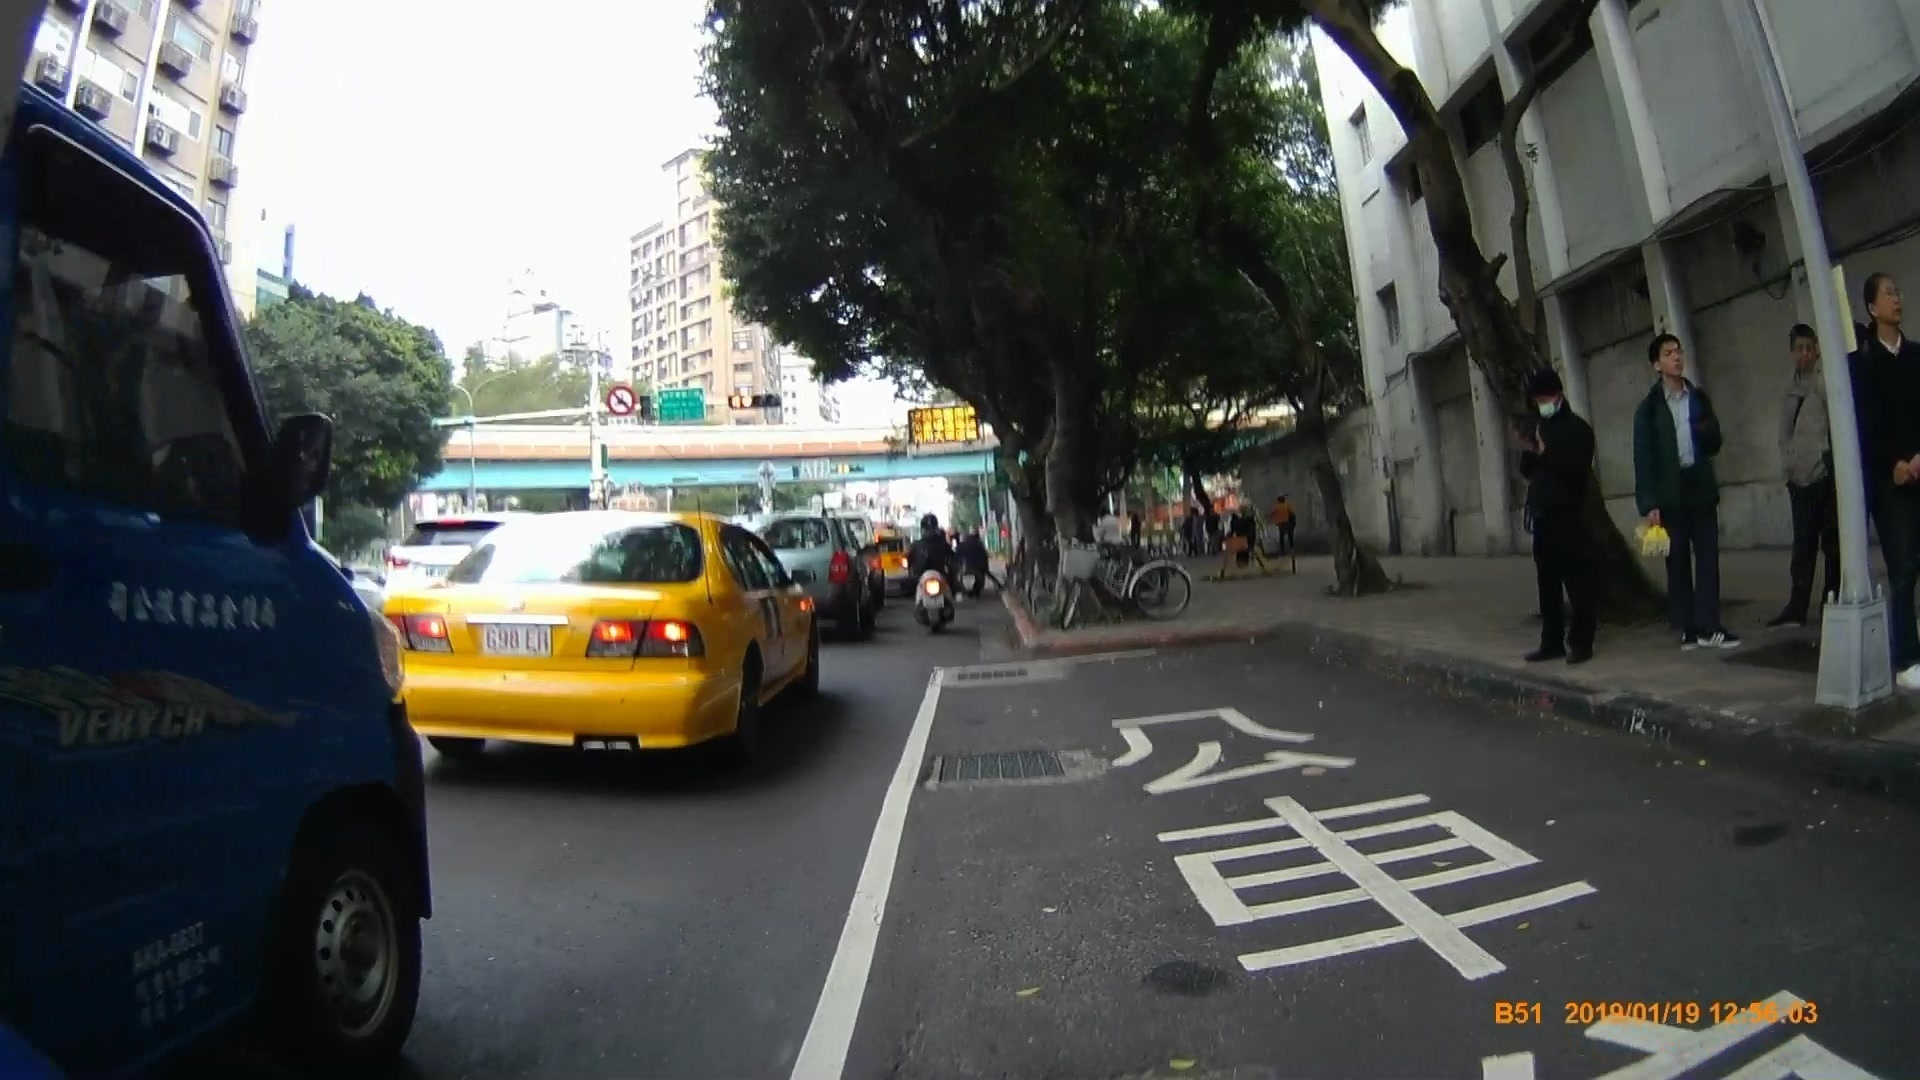License_plate: (483, 624, 557, 654)
